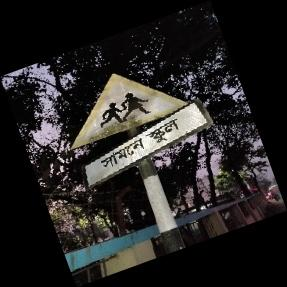School-in-front: (71, 73, 211, 188)
